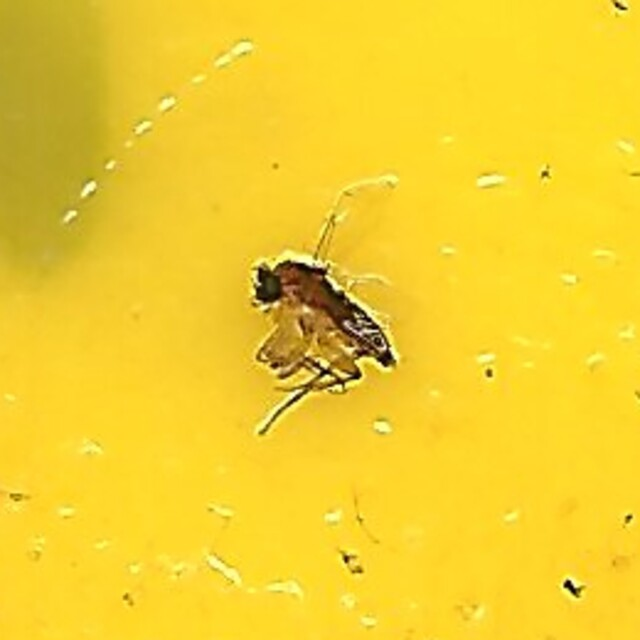Brachycera: (246, 248, 394, 392)
